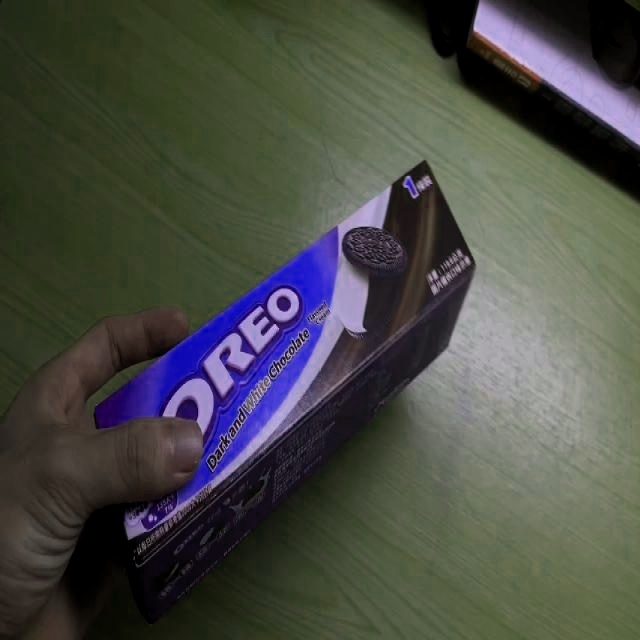Oreo: (91, 156, 476, 632)
